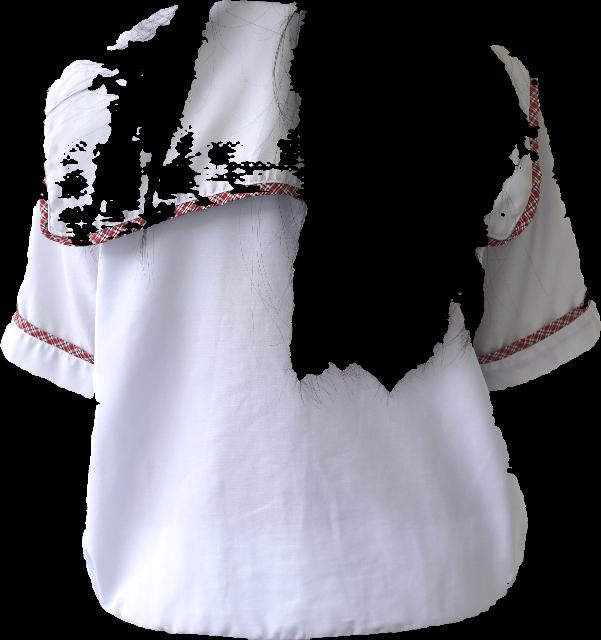pologirl: (1, 0, 600, 639)
